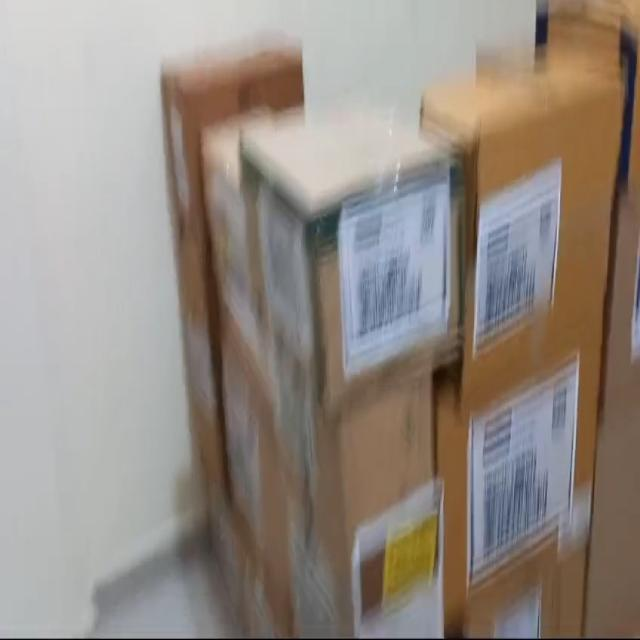BoxFace: (434, 304, 612, 616), (458, 74, 628, 396), (314, 148, 466, 428), (332, 375, 448, 640)
